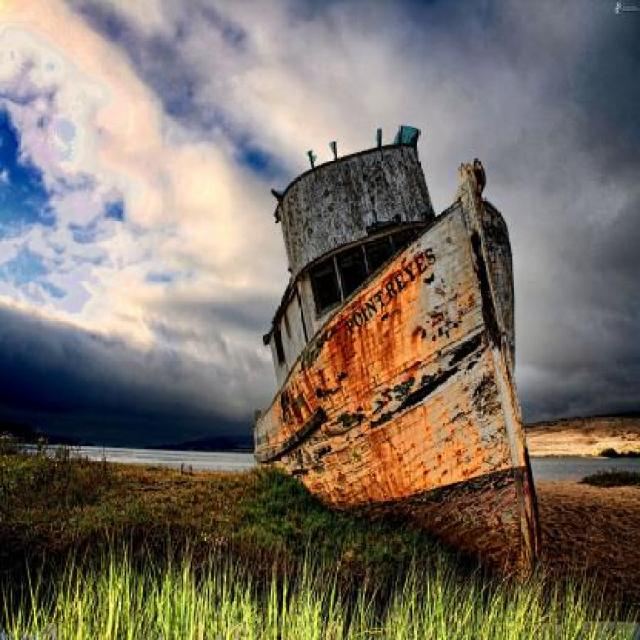corrosion: (251, 121, 538, 576)
